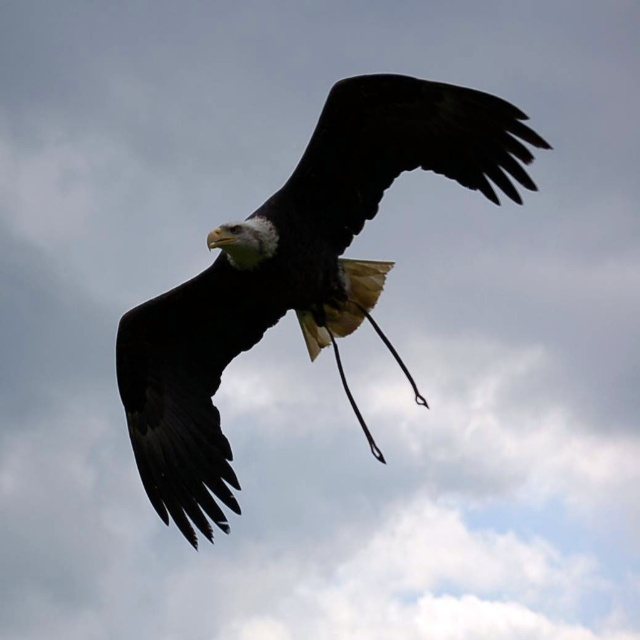Eagle: (116, 73, 555, 553)
